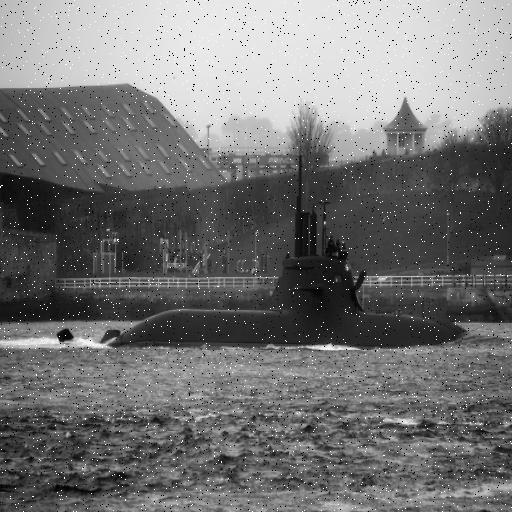submarine: (58, 147, 471, 345)
